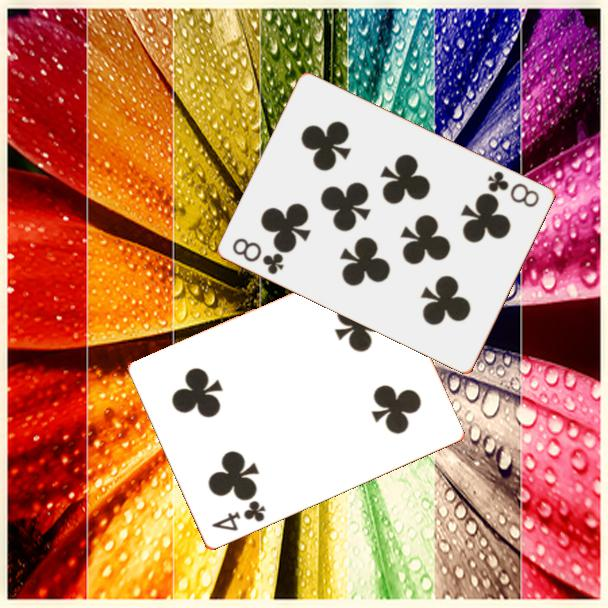c04: (208, 497, 269, 534)
c08: (484, 167, 543, 210), (229, 234, 287, 277)
